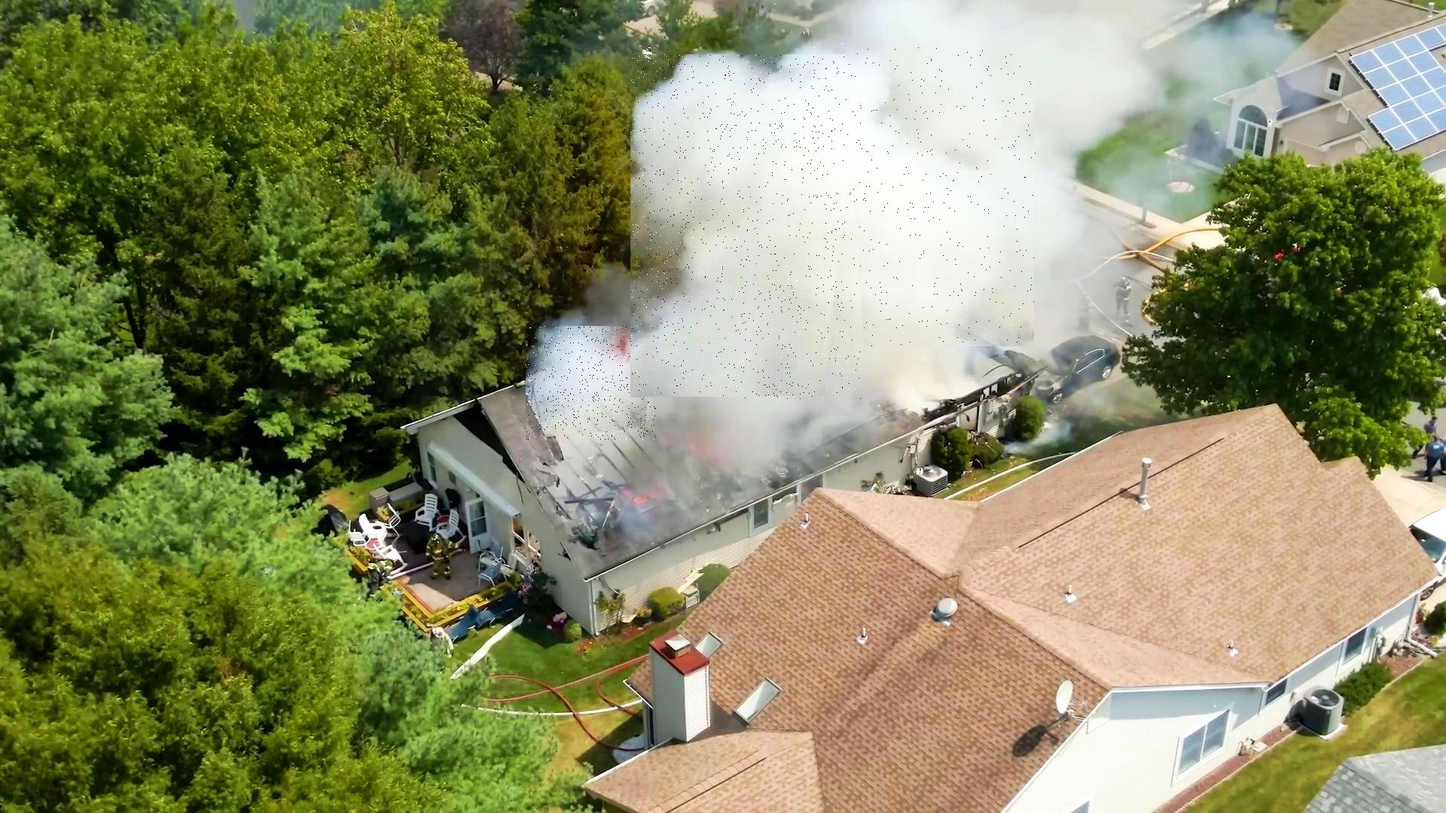smoke: (631, 55, 862, 400), (846, 47, 1036, 348), (526, 326, 656, 440)
